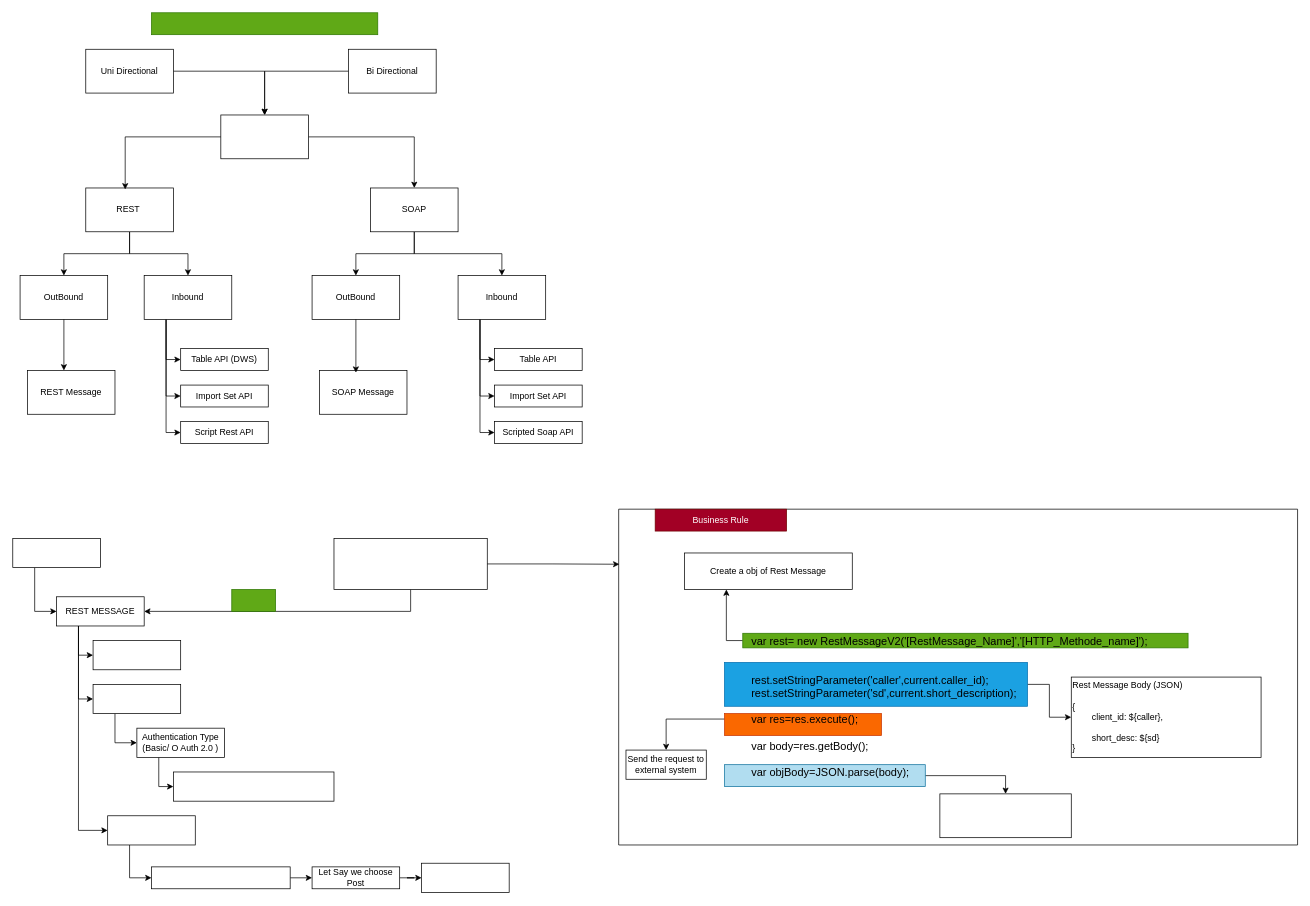
Image size: 1310x906. Some labels were removed from this diagram. Each missing label, with the centre of its shape:
"Authentication Type" belongs at point 136,699.
"Business Rule/ UI Action/ Flow Designer......." belongs at point 410,563.
"Choose/Create the Basic or Auth Profile" belongs at point 253,786.
"Endpoint" belongs at point 136,655.
"GET/POST/DELETE/PATCH" belongs at point 220,877.
"Header+ Parameters+ Content(JSON)" belongs at point 465,877.
"HTTP Methods(In related list)" belongs at point 151,830.
"Integration In ServiceNow" belongs at point 264,23.
"Outbound Minimal Requirement" belongs at point 56,553.
"Response that is sent from external system" belongs at point 1005,815.
"Trigger" belongs at point 253,600.
"Web Services" belongs at point 264,136.
